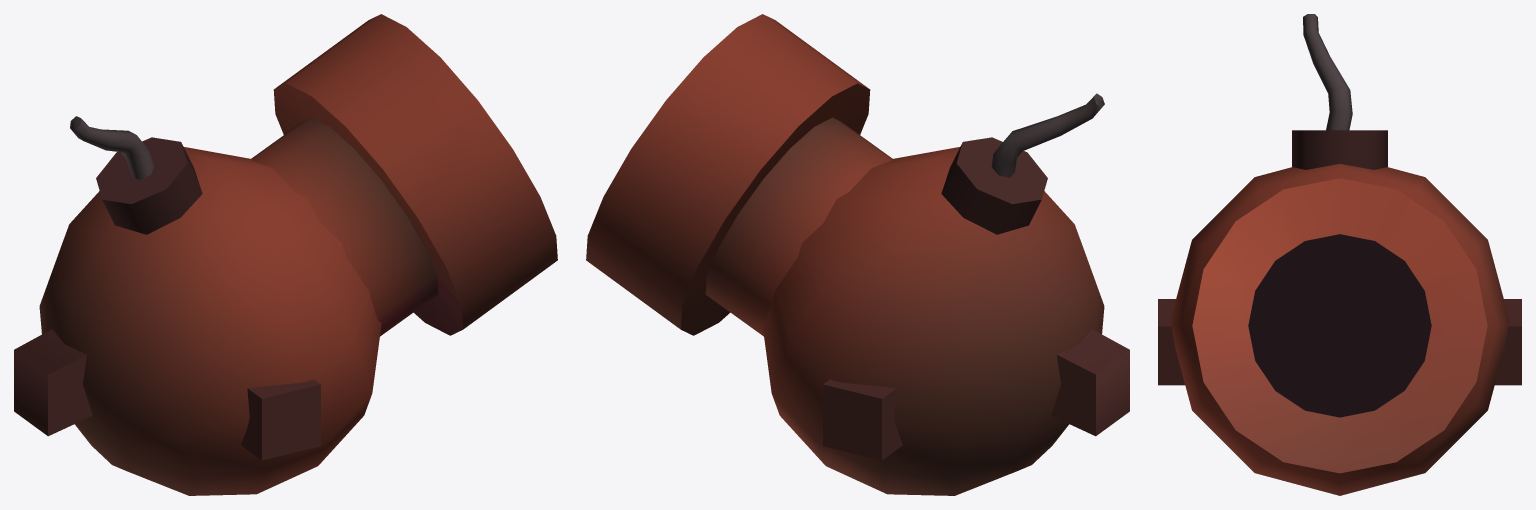
The model's file is cannon.fbx.
The picture shows the model from 3 angles, left to right: view 1: azimuth 30°, elevation 25°; view 2: azimuth 150°, elevation 25°; view 3: azimuth 270°, elevation 25°; orthographic projection. The views are drawn at different scales.
Visible parts, largest first — view 1: Cylinder.040; view 2: Cylinder.040; view 3: Cylinder.040.
Part boxes in pixels (x1,y1,x2,y2): Cylinder.040: (14, 14, 557, 495); Cylinder.040: (586, 14, 1129, 495); Cylinder.040: (1158, 14, 1521, 495).
Size of the model in its own units: 189 by 153 by 128.
